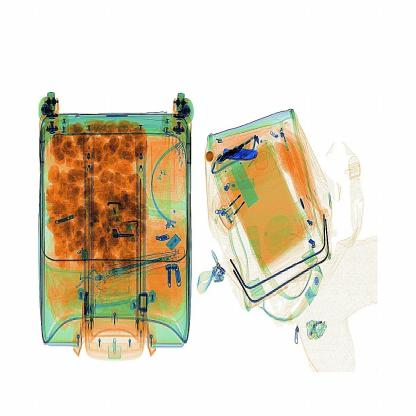knife: (224, 142, 264, 168)
